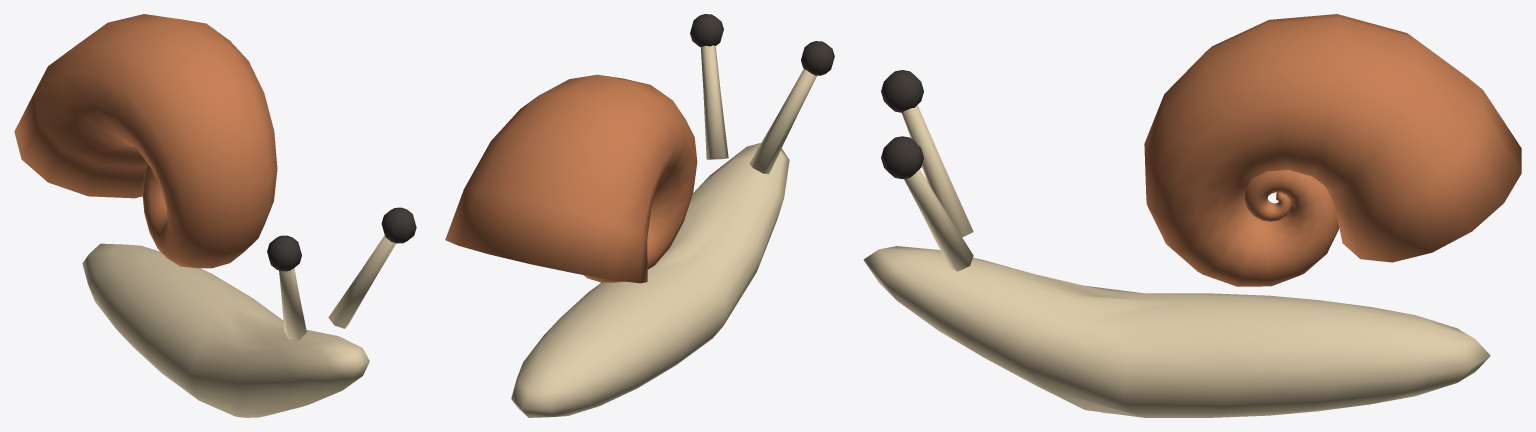
Rendered from bug-snail.glb.
3 renders of one model, left to right at view 1: azimuth 30°, elevation 25°; view 2: azimuth 150°, elevation 25°; view 3: azimuth 270°, elevation 25°, orthographic. The views are drawn at different scales.
Parts seen in each view (by area): view 1: bug; view 2: bug; view 3: bug.
Boxes of the visible parts, x1,y1,x2,y2 form: bug: [14, 14, 416, 417]; bug: [445, 14, 834, 417]; bug: [863, 14, 1521, 417].
Bounding box in the file's own units: 0.0707 × 0.1116 × 0.1746.
